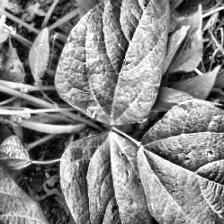ALS: (56, 0, 181, 121), (145, 111, 224, 224), (61, 134, 154, 224), (0, 161, 67, 224)
